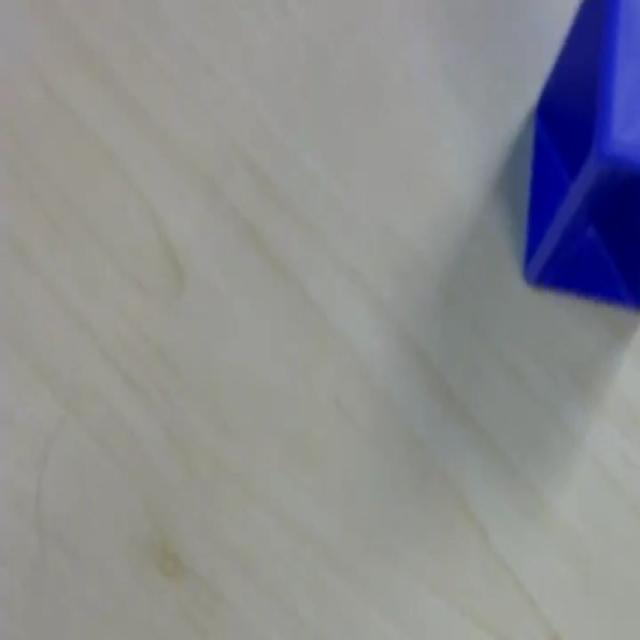blue_block: (520, 0, 638, 309)
